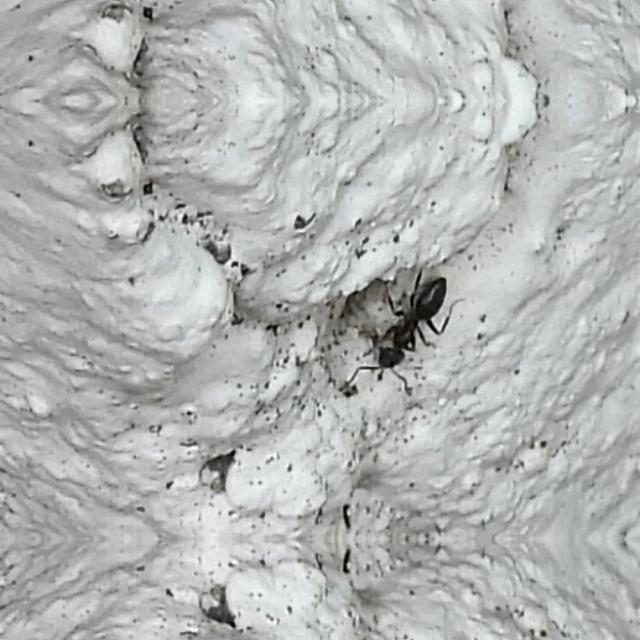Tapinoma: (348, 264, 474, 384)
